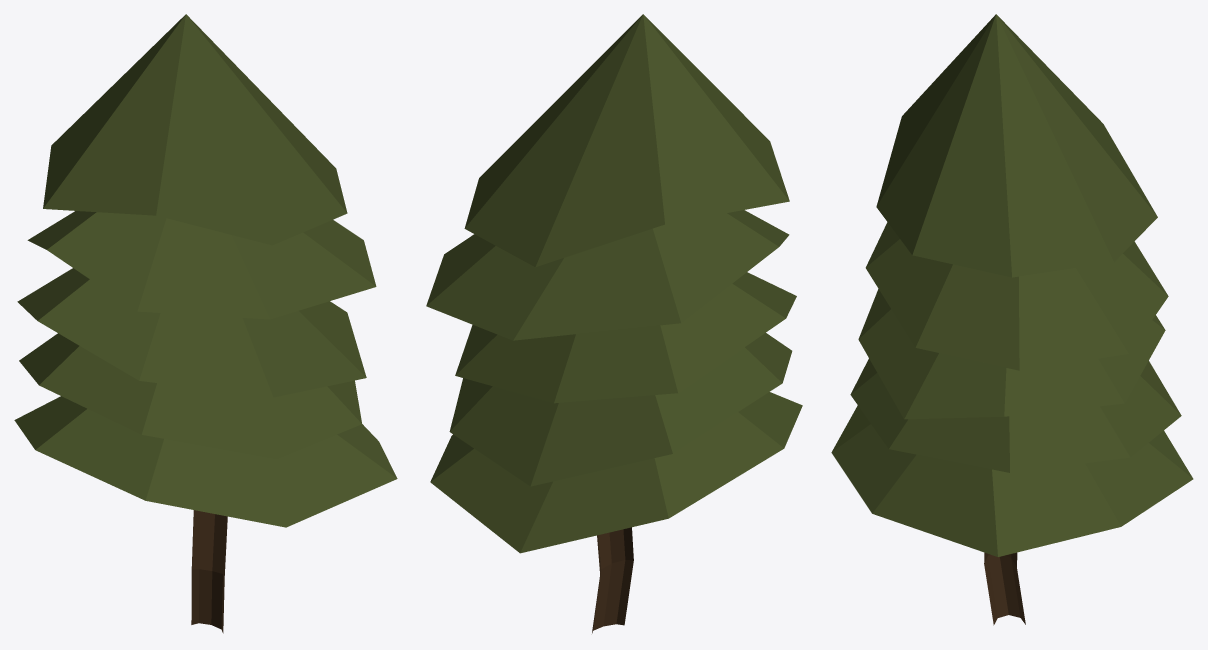
The picture shows the model from 3 angles, left to right: view 1: azimuth 30°, elevation 25°; view 2: azimuth 150°, elevation 25°; view 3: azimuth 270°, elevation 25°; orthographic projection. The views are drawn at different scales.
Visible parts, largest first — view 1: Circle.004; view 2: Circle.004; view 3: Circle.004.
Part boxes in pixels (x1,y1,x2,y2): Circle.004: [14, 14, 397, 633]; Circle.004: [426, 14, 802, 633]; Circle.004: [831, 14, 1193, 625].
Size of the model in its own units: 275 by 487 by 266.
